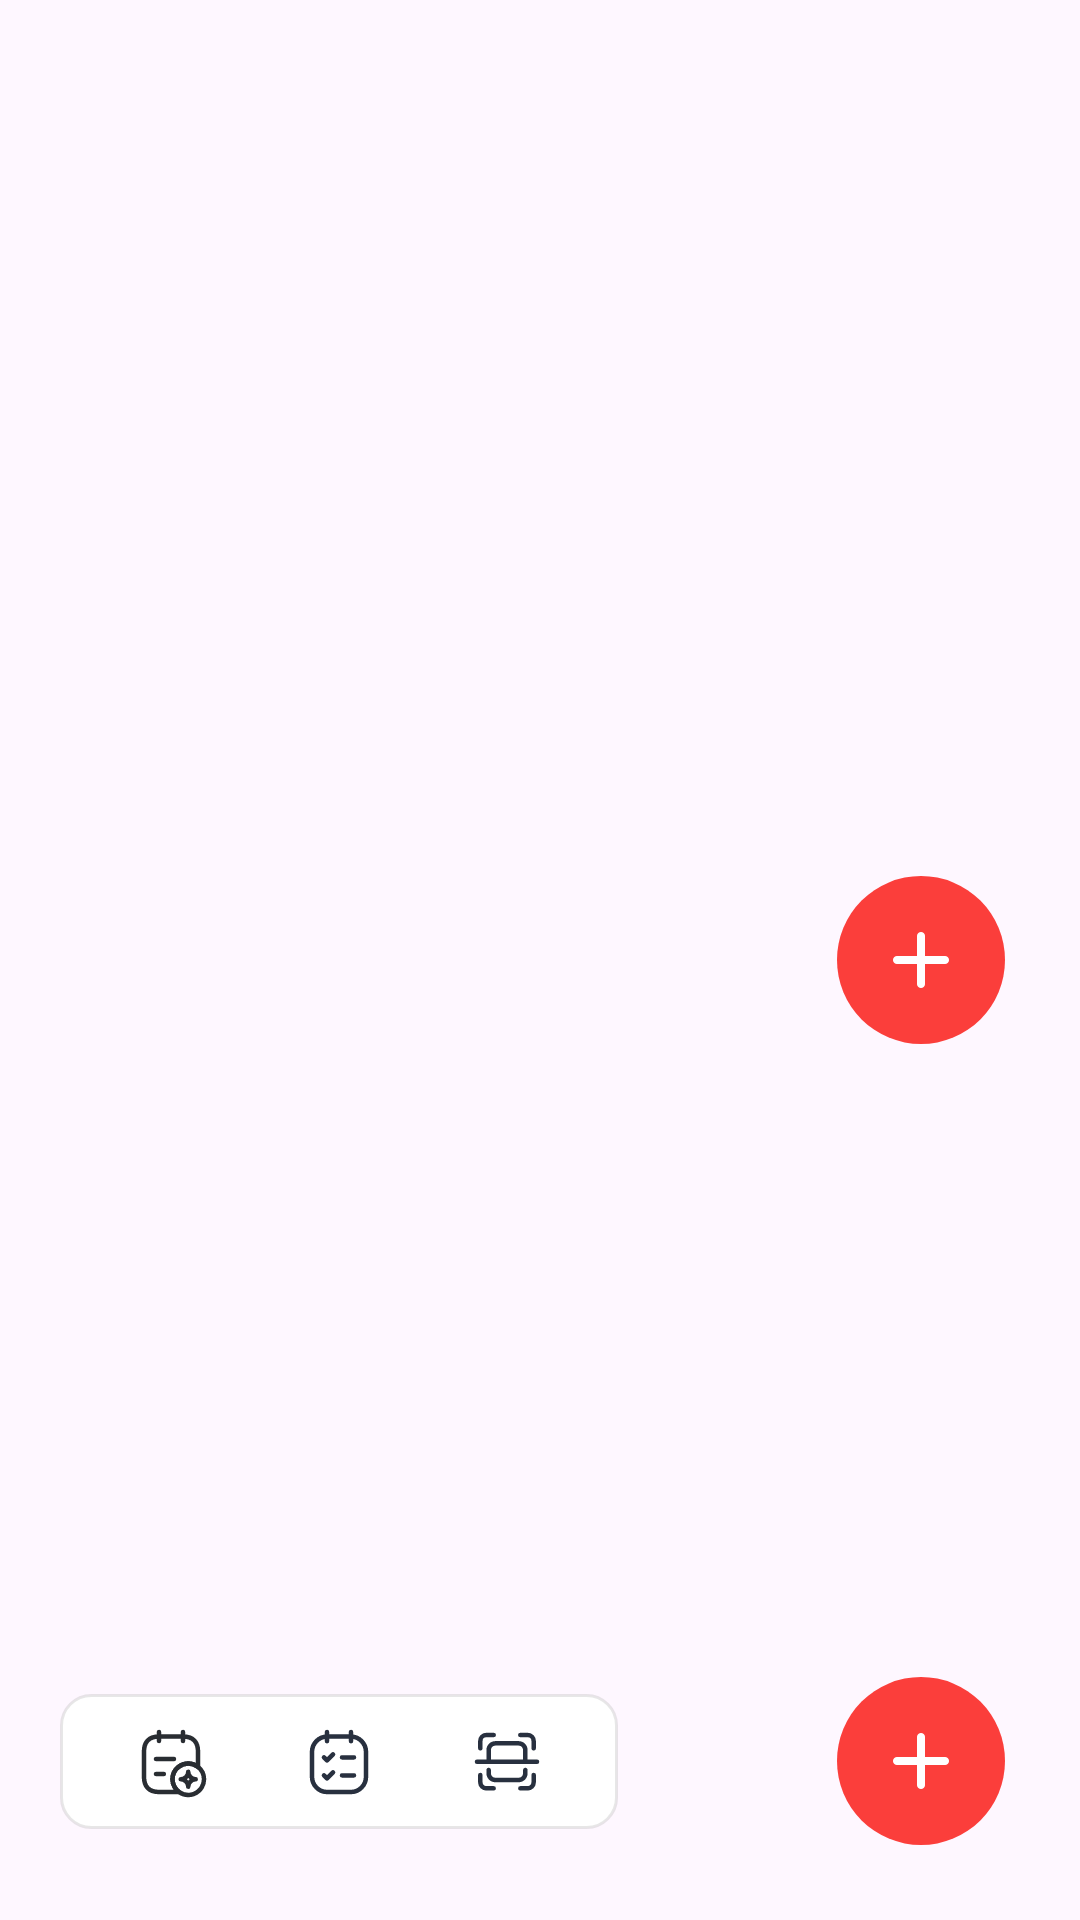

Point at icon controls on the screen. Image size 1080px x 1920px, points as [x,y].
add note: [921,960], [921,1761]
